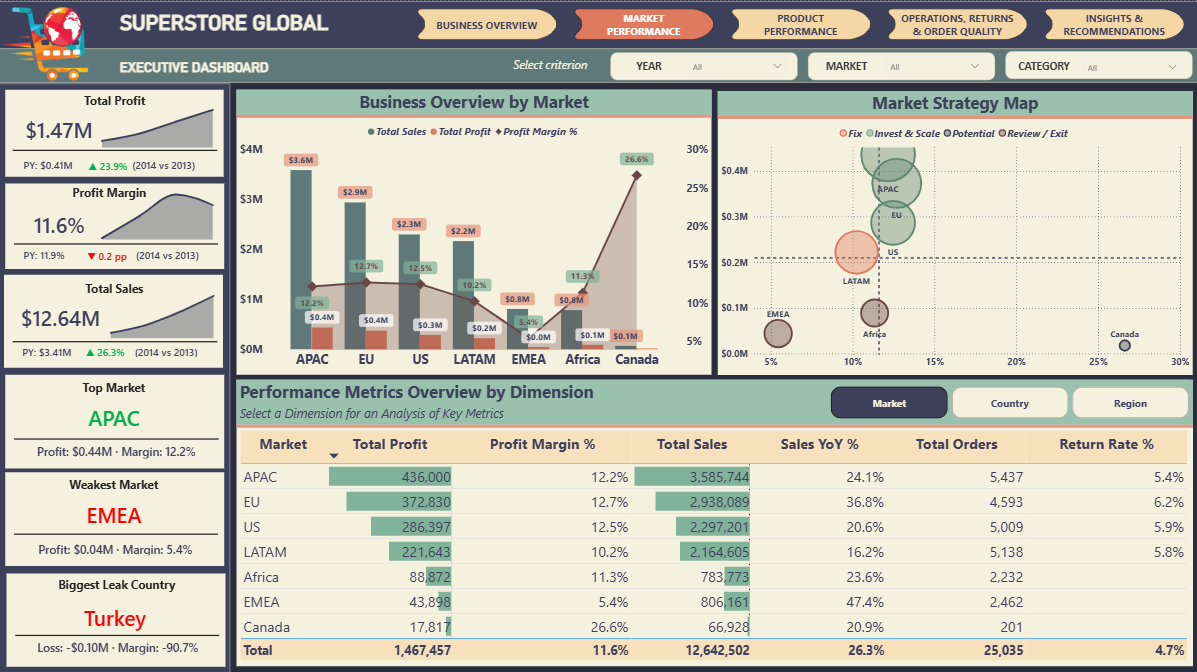

What the dashboard file says about the page in this screenshot:
{"tool":"powerbi","page":{"name":"MARKET PERFORMANCE","canvas":[1920,1080],"ordinal":1},"visuals":[{"type":"shape","box":[0,0,1920.5,77],"z":0},{"type":"shape","box":[977.5,80.7,300,45],"z":0,"group":"g1"},{"type":"textbox","box":[188.9,0,355.8,75.2],"z":1000,"group":"g14"},{"type":"shape","box":[0,76.7,1920,55],"z":1000},{"type":"textbox","box":[989.7,87.6,100,34.4],"z":1000,"group":"g1"},{"type":"shape","box":[10.2,143.6,349.4,139.3],"z":1000,"group":"g2"},{"type":"shape","box":[10.2,293.1,350.7,137.1],"z":1000,"group":"g3"},{"type":"shape","box":[8.8,438.8,350.6,148.9],"z":1000,"group":"g8"},{"type":"shape","box":[10,597.1,350.6,150],"z":1000,"group":"g9"},{"type":"shape","box":[10,754.3,350.6,150],"z":1000,"group":"g11"},{"type":"shape","box":[11.1,915.6,350.6,149.3],"z":1000,"group":"g12"},{"type":"slicer","fields":{"Values":["Dim - Date.Year"]},"box":[1094.2,84.3,174.4,36.7],"z":2000,"group":"g1"},{"type":"textbox","box":[818.9,84.4,141.1,40],"z":2000},{"type":"textbox","box":[188.9,77,262.3,55],"z":3000,"group":"g14"},{"type":"shape","box":[1292.8,80.7,300,45],"z":3000,"group":"g1"},{"type":"shape","box":[0,132,370,946],"z":3000},{"type":"group","id":"g1","title":"Group 2","box":[977.5,79.7,932,46],"z":4000},{"type":"textbox","box":[1305.1,86.9,100,34.4],"z":4000,"group":"g1"},{"type":"slicer","fields":{"Values":["Fact - Orders.Market"]},"box":[1409.5,83.6,174.4,36.7],"z":5000,"group":"g1"},{"type":"lineClusteredColumnComboChart","title":"Business Overview by Market","fields":{"Y":["Measure.Total Sales","Measure.Total Profit"],"Y2":["Measure.Profit Margin %"],"Category":["Dim - Market.Market"]},"box":[380,142,760,456],"z":5000},{"type":"textbox","box":[10,143.5,350,34.8],"z":5000,"group":"g2"},{"type":"textbox","box":[10,288.6,332.7,41.5],"z":5000,"group":"g3"},{"type":"textbox","box":[10.4,442.5,348.8,37.5],"z":5000,"group":"g8"},{"type":"textbox","box":[8.8,598.2,351.2,40],"z":5000,"group":"g9"},{"type":"textbox","box":[8.8,756.4,351.2,40],"z":5000,"group":"g11"},{"type":"textbox","box":[12.2,916.2,348.8,42.5],"z":5000,"group":"g12"},{"type":"shape","box":[1608.8,79.7,300,45],"z":6000,"group":"g1"},{"type":"group","id":"g2","title":"Group 1","box":[10,142.9,350,140],"z":6000,"group":"g4"},{"type":"scatterChart","title":"Market Strategy Map","fields":{"X":["Measure.Profit Margin %"],"Y":["Measure.Total Profit"],"Category":["Dim - Market.Market"],"Series":["Dim - Market.Quadrant"],"Size":["Measure.Total Sales"]},"box":[1150,144,760,454],"z":6000},{"type":"group","id":"g3","title":"Group 1","box":[10,288.6,350.9,141.6],"z":6000,"group":"g5"},{"type":"textbox","box":[1621.1,88.3,100,34.4],"z":7000,"group":"g1"},{"type":"group","id":"g4","title":"Group 3","box":[10,142.9,350,150],"z":7000},{"type":"slicer","fields":{"Values":["Dim - Product.Category"]},"box":[1725.5,84.9,174.4,36.7],"z":8000,"group":"g1"},{"type":"group","id":"g5","title":"Group 4","box":[10,288.6,351.4,150],"z":8000},{"type":"group","id":"g6","title":"Group 5","box":[8.8,438.8,351.3,150],"z":9000},{"type":"group","id":"g7","title":"Group 5","box":[8.8,597.1,351.9,152.1],"z":10000},{"type":"group","id":"g8","title":"Group 1","box":[8.8,438.8,350.6,148.9],"z":11000,"group":"g6"},{"type":"group","id":"g9","title":"Group 1","box":[8.8,597.1,351.9,150],"z":11000,"group":"g7"},{"type":"group","id":"g10","title":"Group 5","box":[8.8,754.3,351.9,150],"z":11000},{"type":"group","id":"g11","title":"Group 1","box":[8.8,754.3,351.9,150],"z":11000,"group":"g10"},{"type":"group","id":"g12","title":"Group 1","box":[11.1,915.6,350.6,149.3],"z":11000,"group":"g13"},{"type":"areaChart","fields":{"Category":["Dim - Date.Year Hierarchy.Year"],"Y":["Measure.Total Sales"]},"box":[165.8,438.9,194.3,106.7],"z":12000,"group":"g6"},{"type":"group","id":"g13","title":"Group 5","box":[11.1,915.6,350.6,149.3],"z":12000},{"type":"tableEx","title":"Performance Metrics Overview by Dimension","fields":{"Values":["Fact - Orders.Market","Measure.Total Profit","Measure.Profit Margin %","Measure.Total Sales","Measure.Sales YoY %","Measure.Total Orders Count","Measure.Return Rate %"]},"box":[380,606,1530,458],"z":13000},{"type":"shape","box":[23.4,378.6,326.7,21.5],"z":14000,"group":"g5"},{"type":"advancedSlicerVisual","fields":{"Values":["Market Dimension.Market Dimension"]},"box":[1325,612.5,585,61.2],"z":14000},{"type":"pageNavigator","box":[662,12,1244,50],"z":15000},{"type":"shape","box":[22.9,229.2,327.1,22],"z":15000,"group":"g4"},{"type":"shape","box":[22.9,533.9,327.1,22.3],"z":15000,"group":"g6"},{"type":"shape","box":[24.2,689.6,327.1,21.7],"z":15000,"group":"g7"},{"type":"shape","box":[24.5,841.8,326.7,22.2],"z":15000,"group":"g10"},{"type":"shape","box":[25.4,1002.8,326.7,22.2],"z":15000,"group":"g13"},{"type":"group","id":"g14","title":"Group 4","box":[0,0,544.8,132.1],"z":16000},{"type":"cardVisual","fields":{"Data":["Measure.Total Profit"]},"box":[14.4,168.1,164.3,73.1],"z":16000,"group":"g2"},{"type":"cardVisual","fields":{"Data":["Measure.Profit Margin %"]},"box":[14.4,322.7,165.7,68],"z":16000,"group":"g3"},{"type":"cardVisual","fields":{"Data":["Measure.Total Sales"]},"box":[17.2,467.5,165.7,77.4],"z":16000,"group":"g8"},{"type":"cardVisual","fields":{"Data":["Measure.Top Market"]},"box":[18.9,623.6,332.2,80],"z":16000,"group":"g9"},{"type":"cardVisual","fields":{"Data":["Measure.Weakest Market"]},"box":[18.9,777.3,332.2,83.3],"z":16000,"group":"g11"},{"type":"cardVisual","fields":{"Data":["Measure.Worst Country"]},"box":[17.6,945,335.6,77.8],"z":16000,"group":"g12"},{"type":"cardVisual","fields":{"Data":["Measure.Margin PY Text"]},"box":[10,375.1,144.5,62.3],"z":18000,"group":"g5"},{"type":"areaChart","fields":{"Category":["Dim - Date.Year Hierarchy.Year"],"Y":["Measure.Total Profit"]},"box":[150.1,142.9,207.1,97.4],"z":18001,"group":"g2"},{"type":"areaChart","fields":{"Category":["Dim - Date.Year Hierarchy.Year"],"Y":["Measure.Profit Margin %"]},"box":[150,292,207.2,95],"z":18001,"group":"g3"},{"type":"cardVisual","fields":{"Data":["Measure.Margin YoY"]},"box":[112.7,374.1,144.5,64.2],"z":19000,"group":"g5"},{"type":"cardVisual","fields":{"Data":["Measure.Profit PY Text"]},"box":[10.9,231.6,144.5,61.3],"z":20000,"group":"g4"},{"type":"cardVisual","fields":{"Data":["Measure.Margin Period"]},"box":[189.1,375.1,163.6,62.3],"z":20000,"group":"g5"},{"type":"cardVisual","fields":{"Data":["Measure.Profit YoY Text"]},"box":[113.6,235,143.6,57.8],"z":21000,"group":"g4"},{"type":"cardVisual","fields":{"Data":["Measure.Sales PY Text"]},"box":[9.7,532.7,144.5,56.1],"z":21000,"group":"g6"},{"type":"cardVisual","fields":{"Data":["Measure.Profit Period"]},"box":[184.5,233.1,167.3,57.8],"z":22000,"group":"g4"},{"type":"cardVisual","fields":{"Data":["Measure.Sales YoY Text"]},"box":[110.6,532.7,144.5,54.2],"z":22000,"group":"g6"},{"type":"cardVisual","fields":{"Data":["Measure.Sales Period"]},"box":[187.9,532.7,162.7,55.1],"z":23000,"group":"g6"},{"type":"cardVisual","fields":{"Data":["Measure.Top Market Detail"]},"box":[24.5,688.1,327.8,61.1],"z":23000,"group":"g7"},{"type":"cardVisual","fields":{"Data":["Measure.Weakest Market Detail"]},"box":[23.4,847.3,328.9,56.7],"z":23000,"group":"g10"},{"type":"cardVisual","fields":{"Data":["Measure.Worst Country Detail"]},"box":[24.3,999.4,328.9,64.4],"z":23000,"group":"g13"},{"type":"image","box":[0,0,188.9,132.1],"z":33001,"group":"g14"}]}

Visuals, with their boxes in screenshot pixels (x1, y1, x2, y2), scaled from the page's 1920x1080 canvas onto the 1197x672 screenshot:
shape: BBox(0, 0, 1196, 48)
shape: BBox(609, 50, 796, 78)
textbox: BBox(118, 0, 340, 47)
shape: BBox(0, 48, 1196, 82)
textbox: BBox(617, 55, 679, 76)
shape: BBox(6, 89, 224, 176)
shape: BBox(6, 182, 225, 268)
shape: BBox(5, 273, 224, 366)
shape: BBox(6, 372, 225, 465)
shape: BBox(6, 469, 225, 563)
shape: BBox(7, 570, 225, 663)
slicer - Dim - Date.Year: BBox(682, 52, 791, 75)
textbox: BBox(511, 53, 598, 77)
textbox: BBox(118, 48, 281, 82)
shape: BBox(806, 50, 993, 78)
shape: BBox(0, 82, 231, 671)
"Group 2" group: BBox(609, 50, 1190, 78)
textbox: BBox(814, 54, 876, 75)
slicer - Fact - Orders.Market: BBox(879, 52, 987, 75)
"Business Overview by Market" lineClusteredColumnComboChart: BBox(237, 88, 711, 372)
textbox: BBox(6, 89, 224, 111)
textbox: BBox(6, 180, 214, 205)
textbox: BBox(6, 275, 224, 299)
textbox: BBox(5, 372, 224, 397)
textbox: BBox(5, 471, 224, 496)
textbox: BBox(8, 570, 225, 597)
shape: BBox(1003, 50, 1190, 78)
"Group 1" group: BBox(6, 89, 224, 176)
"Market Strategy Map" scatterChart: BBox(717, 90, 1191, 372)
"Group 1" group: BBox(6, 180, 225, 268)
textbox: BBox(1011, 55, 1073, 76)
"Group 3" group: BBox(6, 89, 224, 182)
slicer - Dim - Product.Category: BBox(1076, 53, 1184, 76)
"Group 4" group: BBox(6, 180, 225, 273)
"Group 5" group: BBox(5, 273, 224, 366)
"Group 5" group: BBox(5, 372, 225, 466)
"Group 1" group: BBox(5, 273, 224, 366)
"Group 1" group: BBox(5, 372, 225, 465)
"Group 5" group: BBox(5, 469, 225, 563)
"Group 1" group: BBox(5, 469, 225, 563)
"Group 1" group: BBox(7, 570, 225, 663)
areaChart - Dim - Date.Year Hierarchy.Year x Measure.Total Sales: BBox(103, 273, 224, 339)
"Group 5" group: BBox(7, 570, 225, 663)
"Performance Metrics Overview by Dimension" tableEx: BBox(237, 377, 1191, 662)
shape: BBox(15, 236, 218, 249)
advancedSlicerVisual - Market Dimension.Market Dimension: BBox(826, 381, 1191, 419)
pageNavigator: BBox(413, 7, 1188, 39)
shape: BBox(14, 143, 218, 156)
shape: BBox(14, 332, 218, 346)
shape: BBox(15, 429, 219, 443)
shape: BBox(15, 524, 219, 538)
shape: BBox(16, 624, 220, 638)
"Group 4" group: BBox(0, 0, 340, 82)
cardVisual - Measure.Total Profit: BBox(9, 105, 111, 150)
cardVisual - Measure.Profit Margin %: BBox(9, 201, 112, 243)
cardVisual - Measure.Total Sales: BBox(11, 291, 114, 339)
cardVisual - Measure.Top Market: BBox(12, 388, 219, 438)
cardVisual - Measure.Weakest Market: BBox(12, 484, 219, 535)
cardVisual - Measure.Worst Country: BBox(11, 588, 220, 636)
cardVisual - Measure.Margin PY Text: BBox(6, 233, 96, 272)
areaChart - Dim - Date.Year Hierarchy.Year x Measure.Total Profit: BBox(94, 89, 223, 150)
areaChart - Dim - Date.Year Hierarchy.Year x Measure.Profit Margin %: BBox(94, 182, 223, 241)
cardVisual - Measure.Margin YoY: BBox(70, 233, 160, 273)
cardVisual - Measure.Profit PY Text: BBox(7, 144, 97, 182)
cardVisual - Measure.Margin Period: BBox(118, 233, 220, 272)
cardVisual - Measure.Profit YoY Text: BBox(71, 146, 160, 182)
cardVisual - Measure.Sales PY Text: BBox(6, 331, 96, 366)
cardVisual - Measure.Profit Period: BBox(115, 145, 219, 181)
cardVisual - Measure.Sales YoY Text: BBox(69, 331, 159, 365)
cardVisual - Measure.Sales Period: BBox(117, 331, 219, 366)
cardVisual - Measure.Top Market Detail: BBox(15, 428, 220, 466)
cardVisual - Measure.Weakest Market Detail: BBox(15, 527, 220, 562)
cardVisual - Measure.Worst Country Detail: BBox(15, 622, 220, 662)
image: BBox(0, 0, 118, 82)
